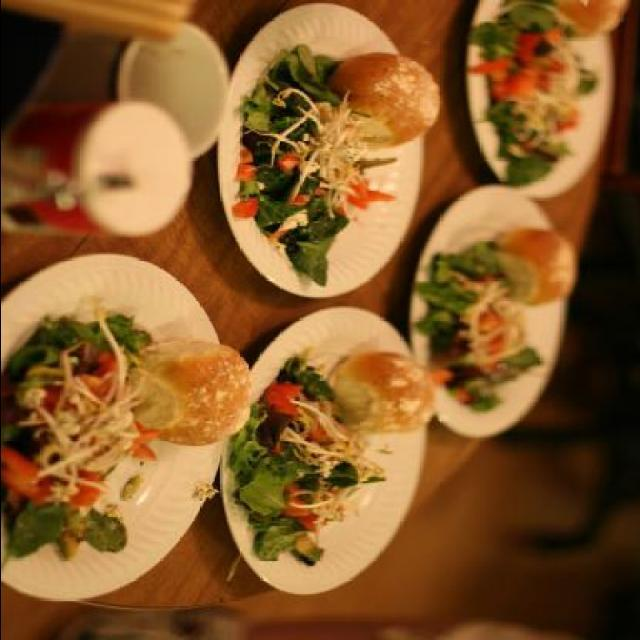Salad: (230, 31, 412, 282), (0, 298, 157, 570), (230, 334, 408, 570), (424, 233, 596, 433), (452, 7, 616, 190)
